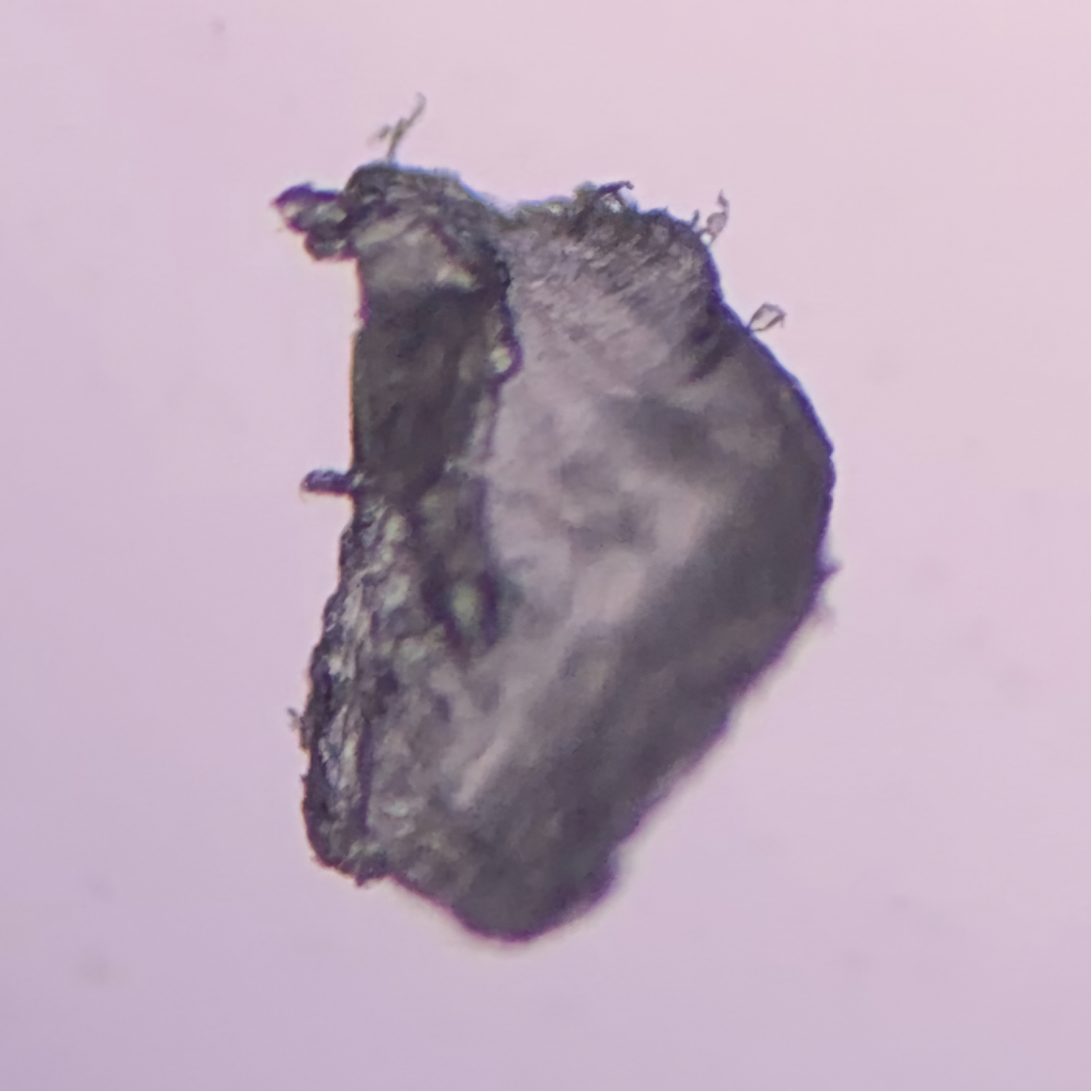microplastic: (256, 98, 862, 968)
